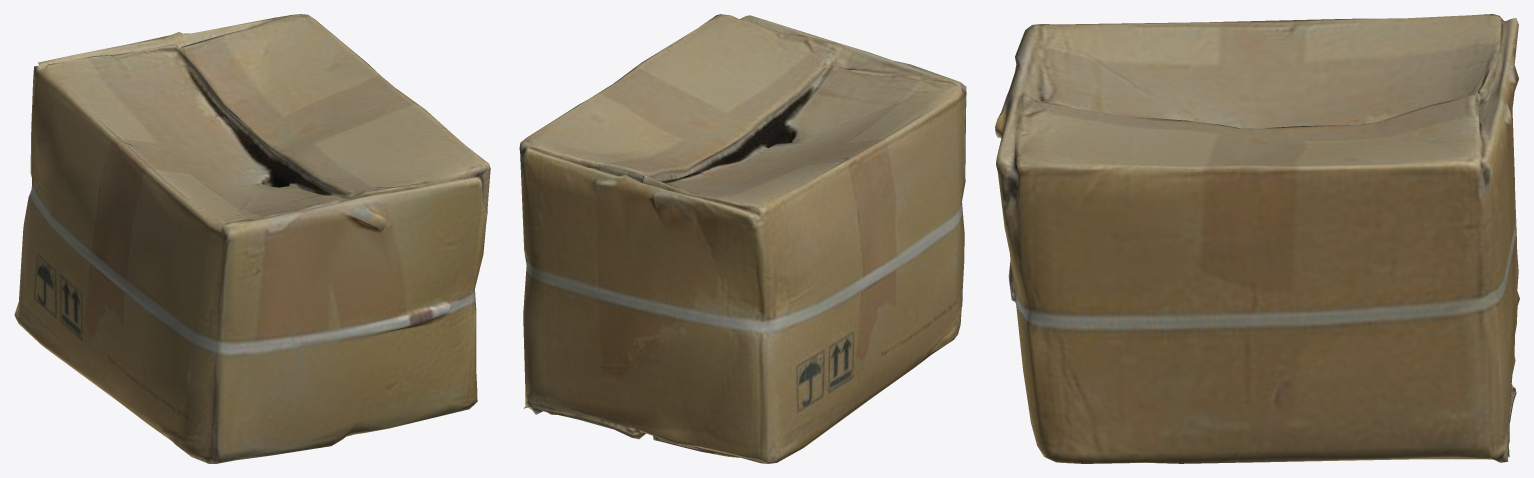
File: cardboard_box_01.lod1.glb
The picture shows the model from 3 angles, left to right: view 1: azimuth 30°, elevation 25°; view 2: azimuth 150°, elevation 25°; view 3: azimuth 270°, elevation 25°; orthographic projection. The views are drawn at different scales.
Visible parts, largest first — view 1: cardboard_box_01; view 2: cardboard_box_01; view 3: cardboard_box_01.
Part boxes in pixels (x1=…): cardboard_box_01: x1=14, y1=14, x2=490, y2=463; cardboard_box_01: x1=519, y1=14, x2=966, y2=463; cardboard_box_01: x1=995, y1=14, x2=1519, y2=463.
Bounding box in the file's own units: 0.386 × 0.3418 × 0.5159.
1 material, 1 textured.
